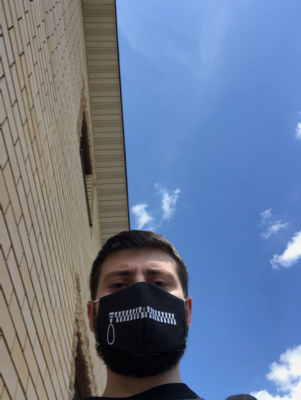with_mask: (94, 262, 187, 379)
